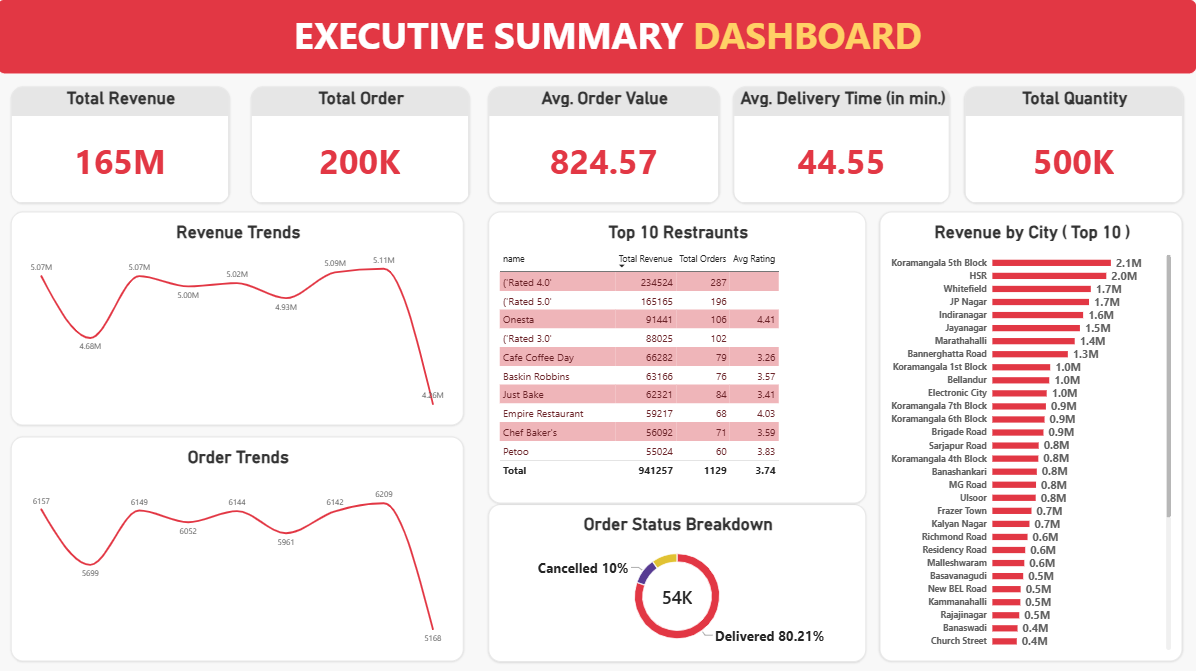

This screenshot's page, from the dashboard's own definition file:
{"tool":"powerbi","page":{"name":"Executive Overview","canvas":[1920,1080],"ordinal":0},"visuals":[{"type":"cardVisual","title":"Total Revenue","fields":{"Data":["KPI Measures.Total Revenue"]},"box":[22.5,140,350,187.5],"z":0},{"type":"cardVisual","title":"Total Order","fields":{"Data":["KPI Measures.Total Orders"]},"box":[405,140,350,187.5],"z":1000},{"type":"cardVisual","title":"Avg. Delivery Time (in min.)","fields":{"Data":["KPI Measures.Average Delivery Time"]},"box":[1177.5,140,347.5,187.5],"z":2000},{"type":"cardVisual","title":"Total Quantity","fields":{"Data":["KPI Measures.Total Quantity"]},"box":[1547.5,140,350,187.5],"z":3000},{"type":"shape","box":[0,0,1920,120],"z":4000},{"type":"cardVisual","title":"Avg. Order Value","fields":{"Data":["KPI Measures.Average Order Value"]},"box":[785,140,370,187.5],"z":5000},{"type":"lineChart","title":"Revenue Trends","fields":{"Y":["KPI Measures.Total Revenue"],"Category":["dim_datetable.Date.Variation.Date Hierarchy.Month"]},"box":[22.5,340,725,342.5],"z":6000},{"type":"textbox","box":[23,883,725,197],"z":7000},{"type":"textbox","box":[462.5,15,1030,85],"z":8000},{"type":"lineChart","title":"Order Trends","fields":{"Category":["dim_datetable.Date.Variation.Date Hierarchy.Month"],"Y":["KPI Measures.Total Orders"]},"box":[22.5,700,725,360],"z":9000},{"type":"clusteredBarChart","title":"Revenue by City ( Top 10 )","fields":{"Y":["KPI Measures.Total Revenue"],"Category":["dim_customer.FilterCity"]},"box":[1412.5,340,485,720],"z":10000},{"type":"donutChart","title":"Order Status Breakdown","fields":{"Y":["KPI Measures.Total Orders"],"Category":["fact_order.OrderStatus"]},"box":[785,807.5,605,252.5],"z":11000},{"type":"tableEx","title":"Top 10 Restraunts","fields":{"Values":["dim_restro.name","KPI Measures.Total Revenue","KPI Measures.Total Orders","Restaurant performance measures.Avg Rating"]},"box":[785,340,605,467.5],"z":12000}]}

Visuals, with their boxes in screenshot pixels (x1, y1, x2, y2), scaled from the page's 1920x1080 canvas onto the 1196x671 screenshot:
"Total Revenue" cardVisual: 14/87/232/203
"Total Order" cardVisual: 252/87/470/203
"Avg. Delivery Time (in min.)" cardVisual: 733/87/950/203
"Total Quantity" cardVisual: 964/87/1182/203
shape: 0/0/1195/75
"Avg. Order Value" cardVisual: 489/87/719/203
"Revenue Trends" lineChart: 14/211/466/424
textbox: 14/549/466/670
textbox: 288/9/930/62
"Order Trends" lineChart: 14/435/466/659
"Revenue by City ( Top 10 )" clusteredBarChart: 880/211/1182/659
"Order Status Breakdown" donutChart: 489/502/866/659
"Top 10 Restraunts" tableEx: 489/211/866/502
